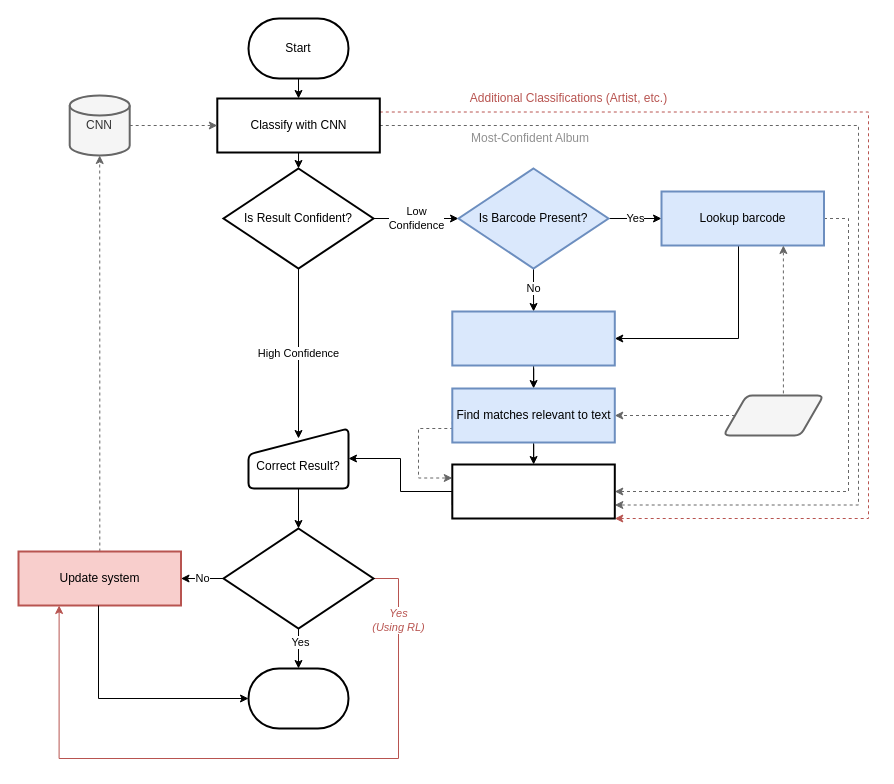
The diagram is 894 pixels wide and 784 high, and some of its shapes have lost their labels. The shapes that lost their labels are listed below. From the top down, each one's centre as x and y in pixels, then its label:
At (x=533, y=338): "Perform OCR".
At (x=773, y=415): "Discogs, Spotify, etc.".
At (x=533, y=491): "Generate consensus".
At (x=298, y=578): "Is Result Correct?".
At (x=298, y=698): "End".
